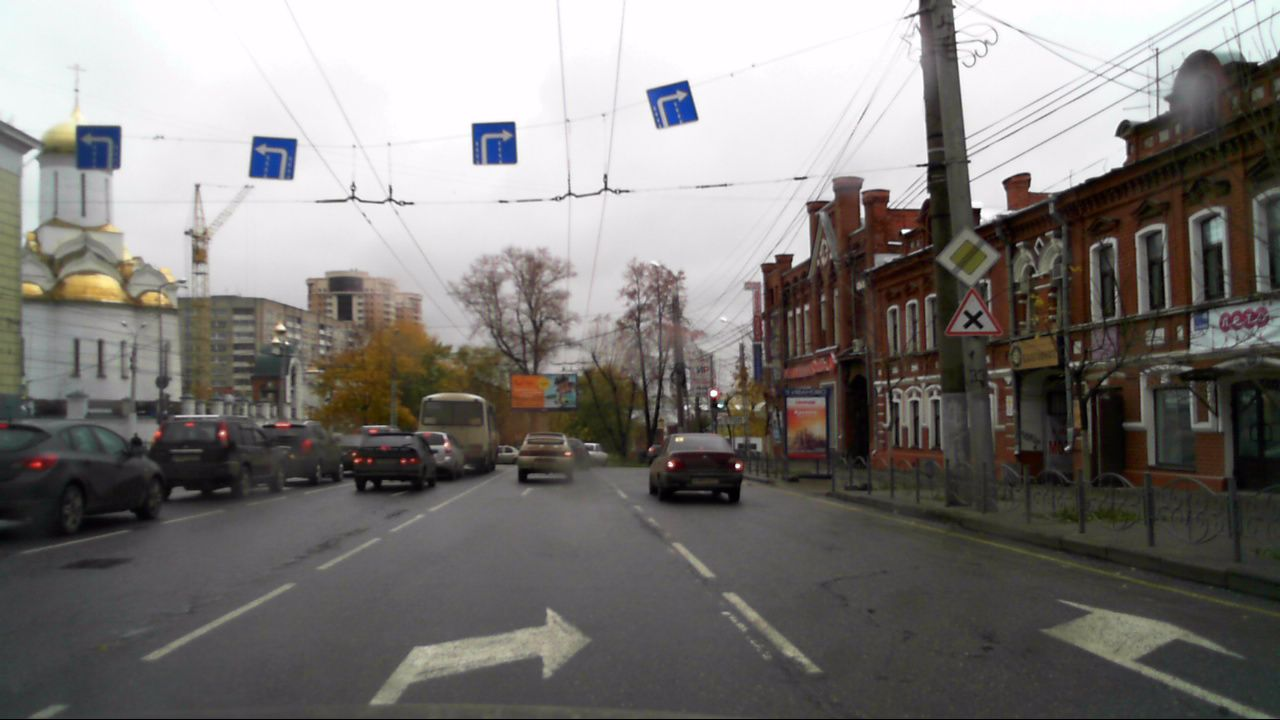main road: (935, 225, 1002, 287)
